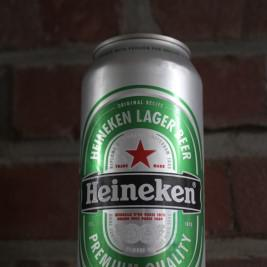beer: (77, 33, 209, 267)
